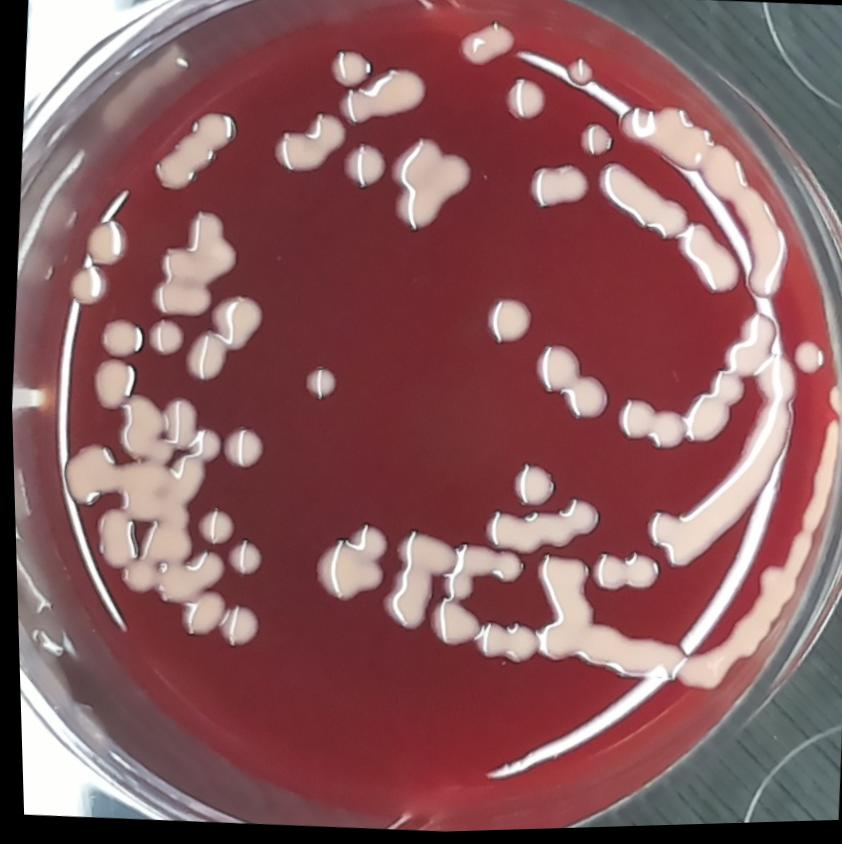krosea: (606, 105, 813, 310), (636, 397, 794, 582), (142, 204, 247, 324), (381, 133, 482, 240), (528, 623, 680, 692), (143, 100, 243, 199), (371, 527, 454, 640), (473, 490, 599, 564), (589, 160, 691, 243), (302, 518, 390, 607), (530, 343, 613, 429), (334, 63, 431, 130), (267, 107, 346, 179), (527, 548, 595, 627), (679, 370, 746, 450), (673, 227, 743, 303), (608, 400, 685, 458), (58, 436, 118, 506), (522, 157, 592, 214), (719, 312, 776, 378), (452, 19, 520, 74), (80, 355, 138, 418), (449, 540, 522, 590), (590, 549, 661, 599), (205, 290, 264, 350), (88, 504, 139, 573), (468, 618, 533, 668), (421, 599, 478, 653), (180, 328, 232, 386), (214, 422, 268, 475), (480, 295, 533, 349), (504, 459, 557, 513), (209, 601, 260, 652), (499, 77, 551, 126), (749, 355, 799, 405), (326, 44, 375, 95), (336, 144, 388, 192), (61, 261, 111, 308), (79, 218, 128, 265), (93, 318, 144, 361), (296, 359, 342, 404), (180, 548, 227, 592), (140, 316, 186, 360), (572, 118, 615, 162), (220, 537, 265, 579), (785, 339, 827, 381), (193, 506, 235, 547), (438, 569, 472, 607), (564, 57, 598, 91)
